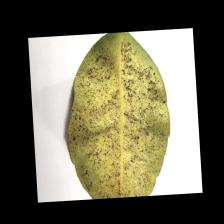canker: (87, 74, 152, 165)
